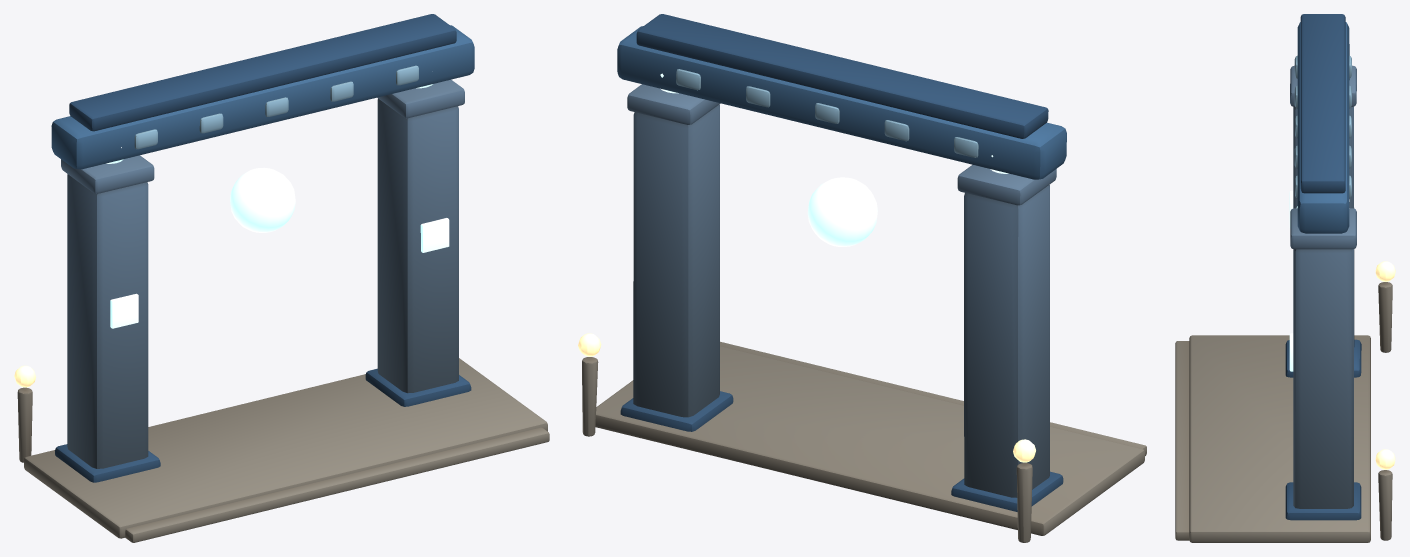
The picture shows the model from 3 angles, left to right: view 1: azimuth 30°, elevation 25°; view 2: azimuth 150°, elevation 25°; view 3: azimuth 270°, elevation 25°; orthographic projection. The views are drawn at different scales.
Visible parts, largest first — view 1: gate_7cb519f9; view 2: gate_7cb519f9; view 3: gate_7cb519f9.
Boxes of the visible parts, left/top/right/bottom form: gate_7cb519f9: left=14, top=14, right=549, bottom=542; gate_7cb519f9: left=578, top=14, right=1146, bottom=542; gate_7cb519f9: left=1175, top=14, right=1395, bottom=542.
Size of the model in its own units: 5.4 by 4.46 by 2.54.
